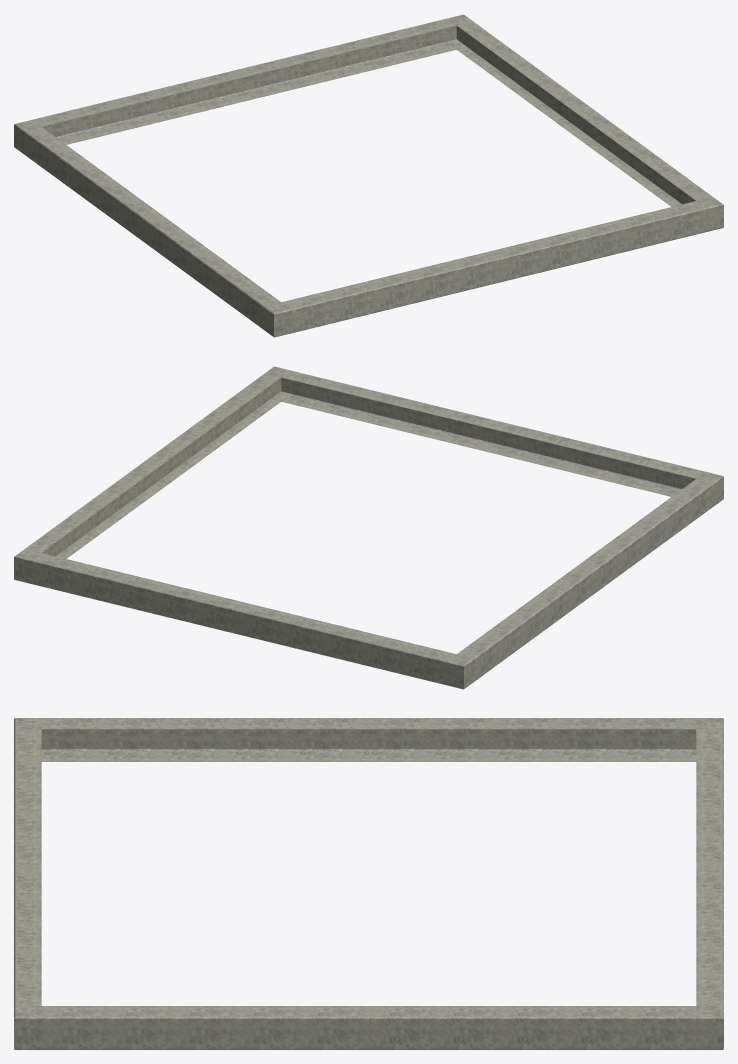
Rendered from CT_Building_Trim_010.fbx.
3 views of the same model, one above another, from view 1: azimuth 30°, elevation 25°; view 2: azimuth 150°, elevation 25°; view 3: azimuth 270°, elevation 25° (orthographic). The views are drawn at different scales.
Parts seen in each view (by area): view 1: CT_Building_Trim_010; view 2: CT_Building_Trim_010; view 3: CT_Building_Trim_010.
Boxes of the visible parts, x1,y1,x2,y2 form: CT_Building_Trim_010: (14,14,723,337); CT_Building_Trim_010: (14,366,723,689); CT_Building_Trim_010: (14,718,723,1049).
Size of the model in its own units: 555 by 28.46 by 555.
